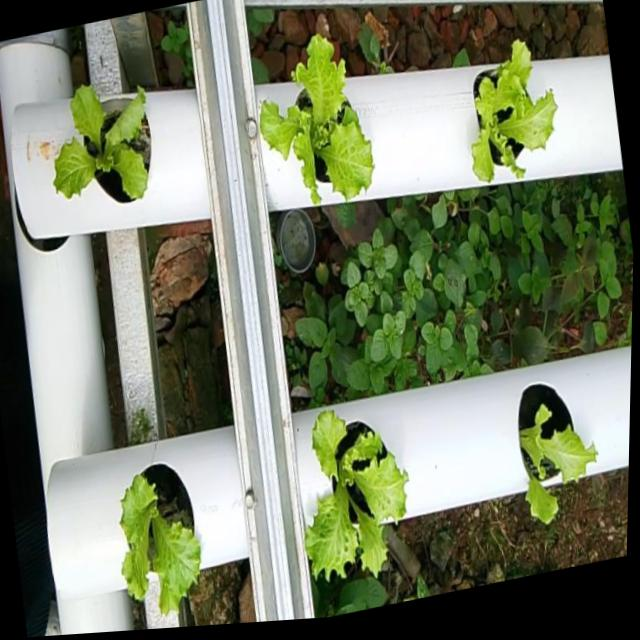Baby: (260, 36, 375, 206), (305, 411, 408, 593), (120, 464, 201, 615), (472, 41, 557, 183), (53, 85, 152, 204), (518, 383, 597, 524)
